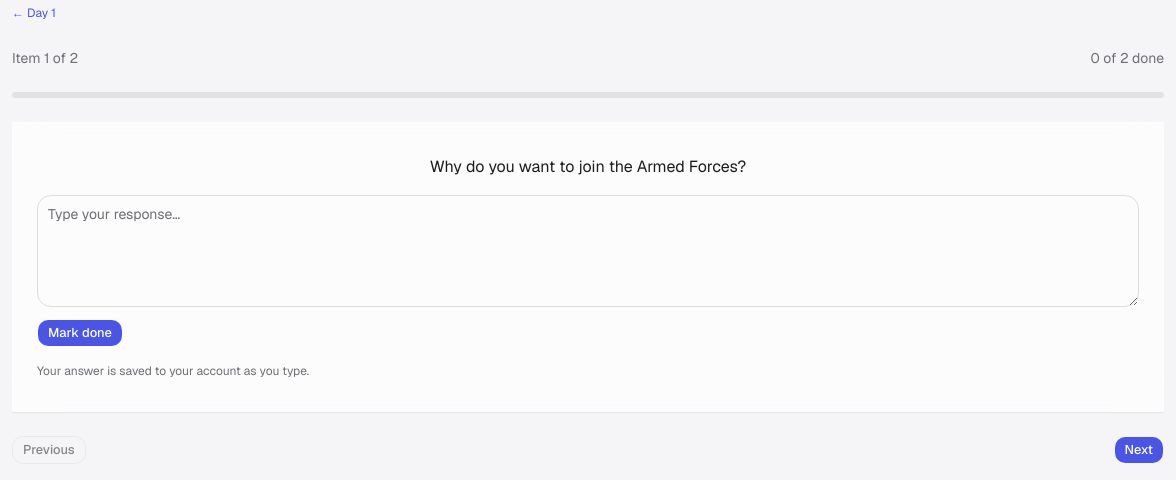
BankPracticeRunner (free-text) › saves typed text after a pause, and Mark done straight away
The width and height of the screenshot is (1176, 480).
In the text box named "Your answer": (588, 251) top-left (37, 195), bottom-right (1139, 307), type "To serve."
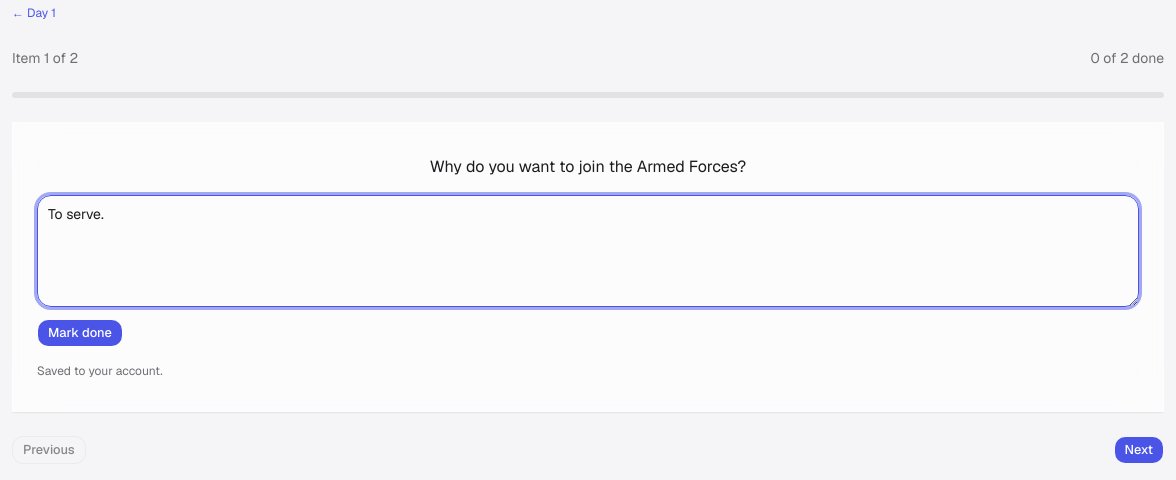
Click the button "Mark done": click(80, 333) top-left (37, 319), bottom-right (123, 347)
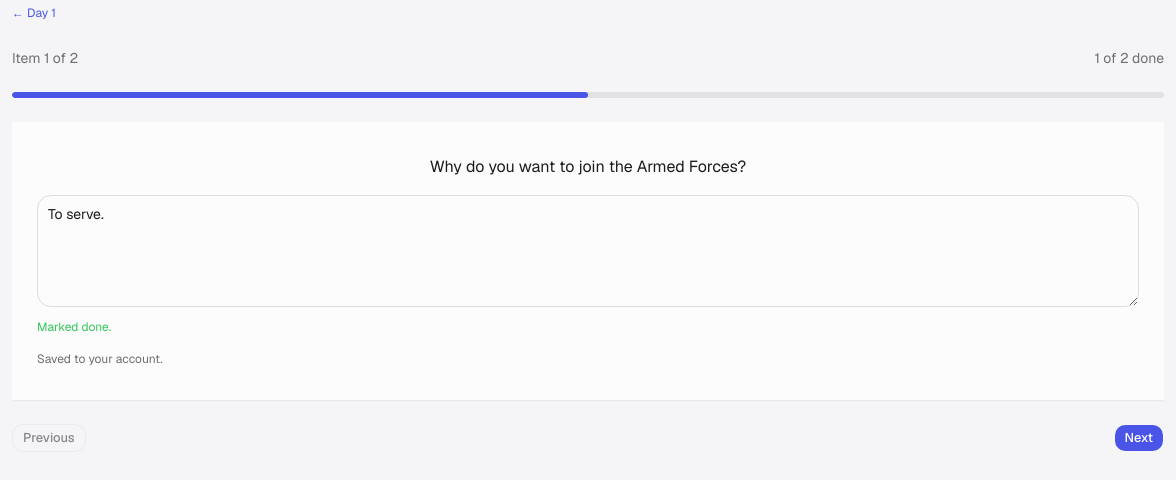
expect the text "Saved to your account." is shown: met, box top-left (37, 351), bottom-right (163, 367)
expect the text "Marked done." is shown: met, box top-left (37, 319), bottom-right (111, 335)
